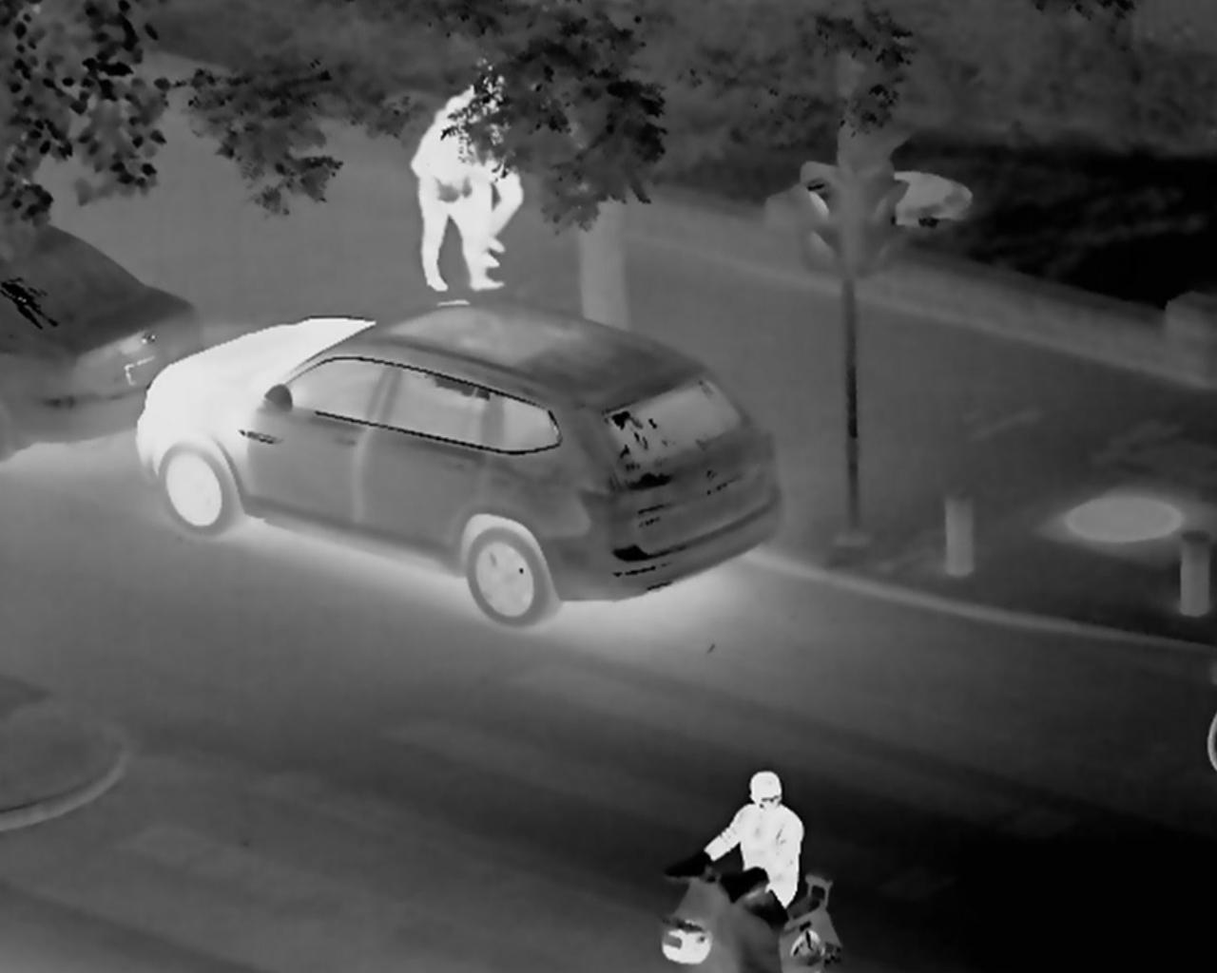person: (679, 760, 819, 923), (415, 98, 521, 301)
